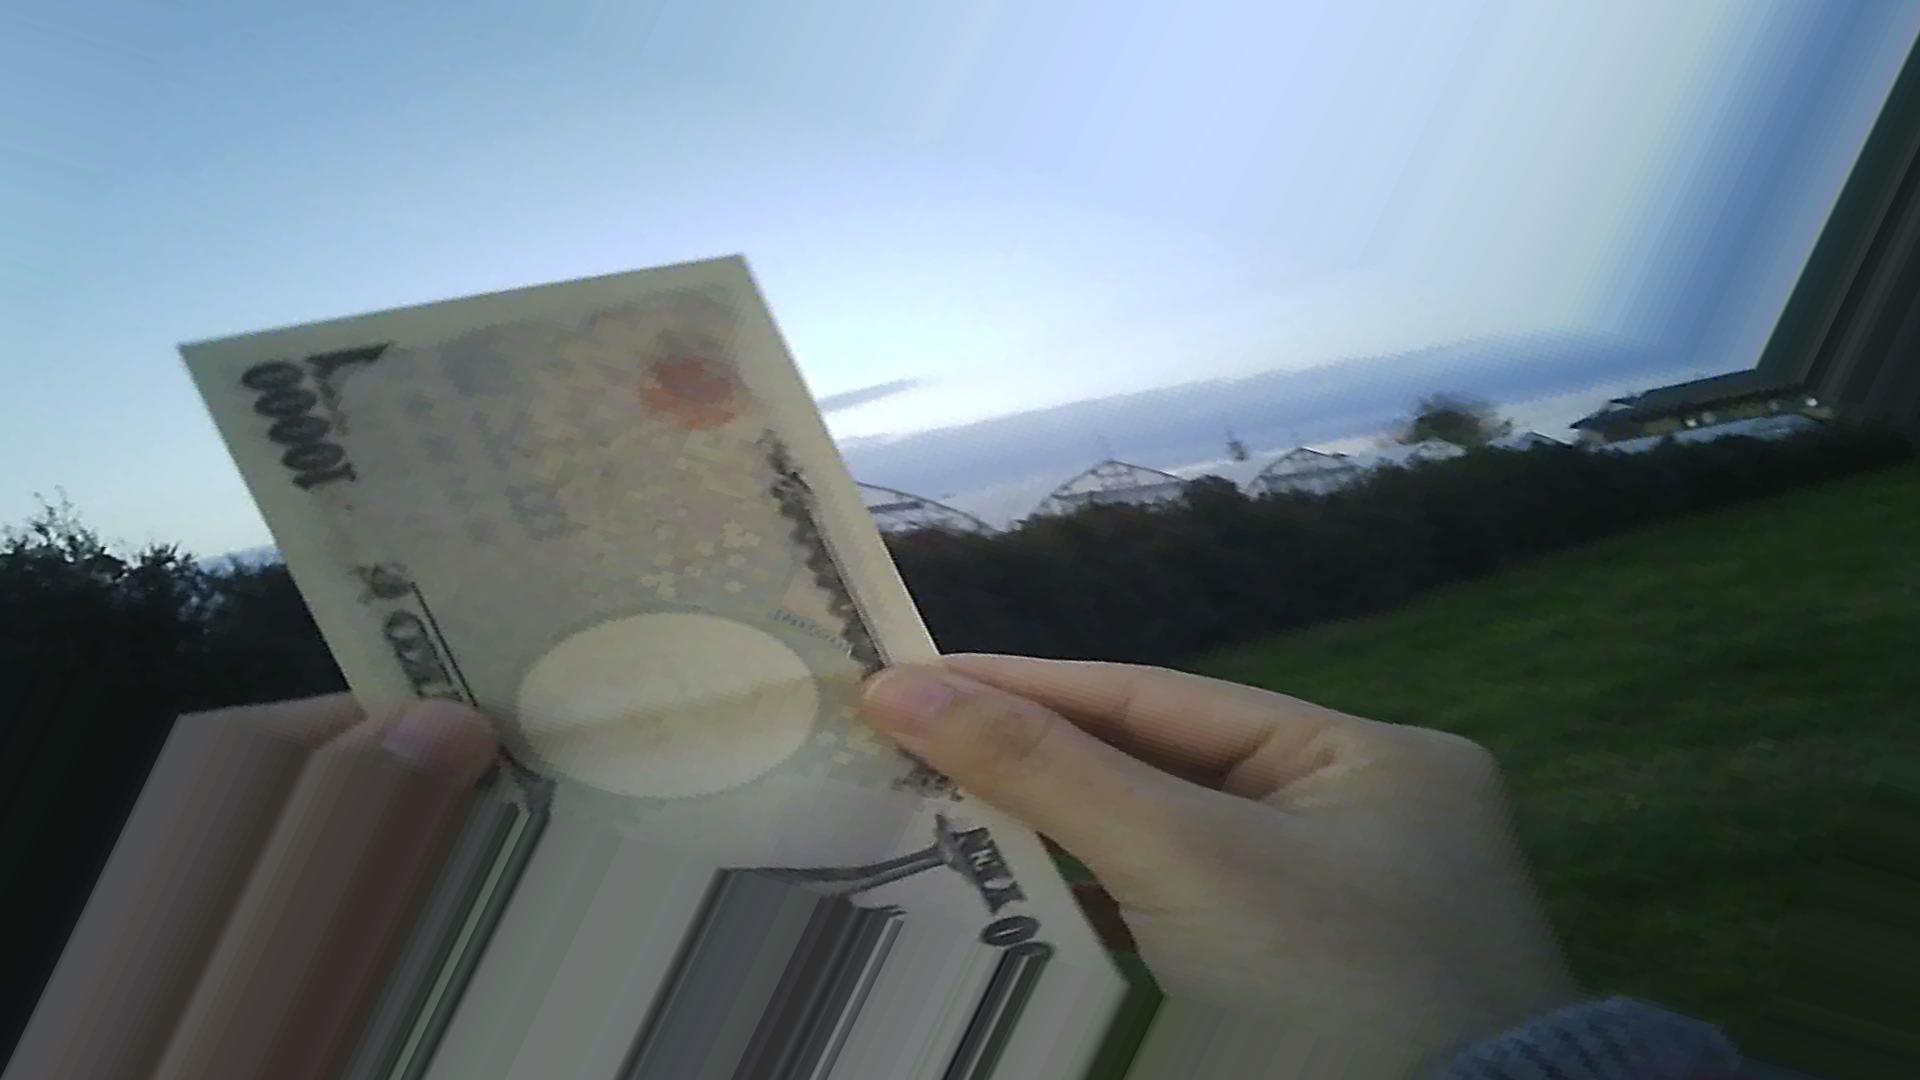10,000 Yen: (156, 274, 1164, 1007)
